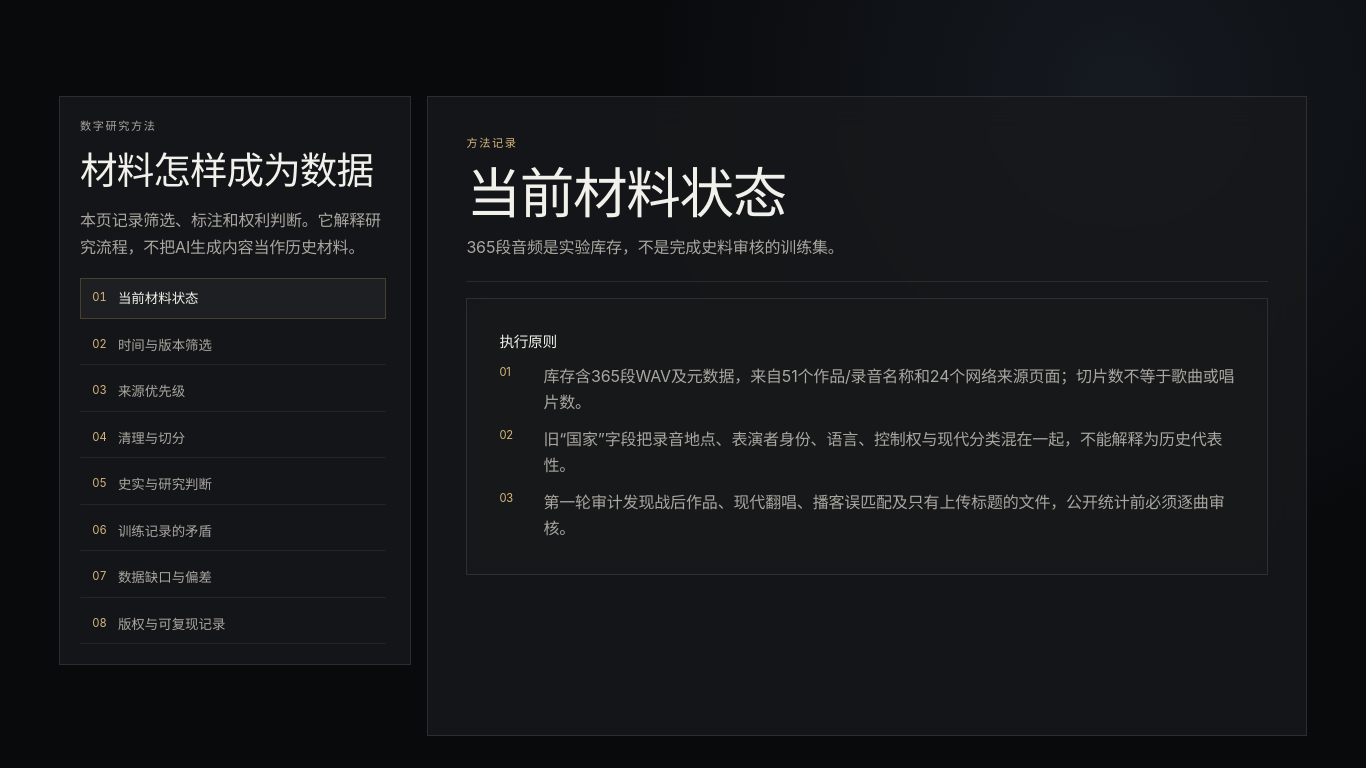
it: TrainingDataShowcase › presents one research-method chapter at a time
The image size is (1366, 768).
Expected: the element with test id "training-data-page" shows "数字研究方法", [80, 119, 156, 133]
Expected: the element with test id "training-data-page" shows "365段音频是实验库存", [466, 237, 844, 257]
What coordinates should you click on to do the following:
click the button "02 时间与版本筛选"
I would click on:
 (165, 345)
Its box is [80, 324, 386, 365].
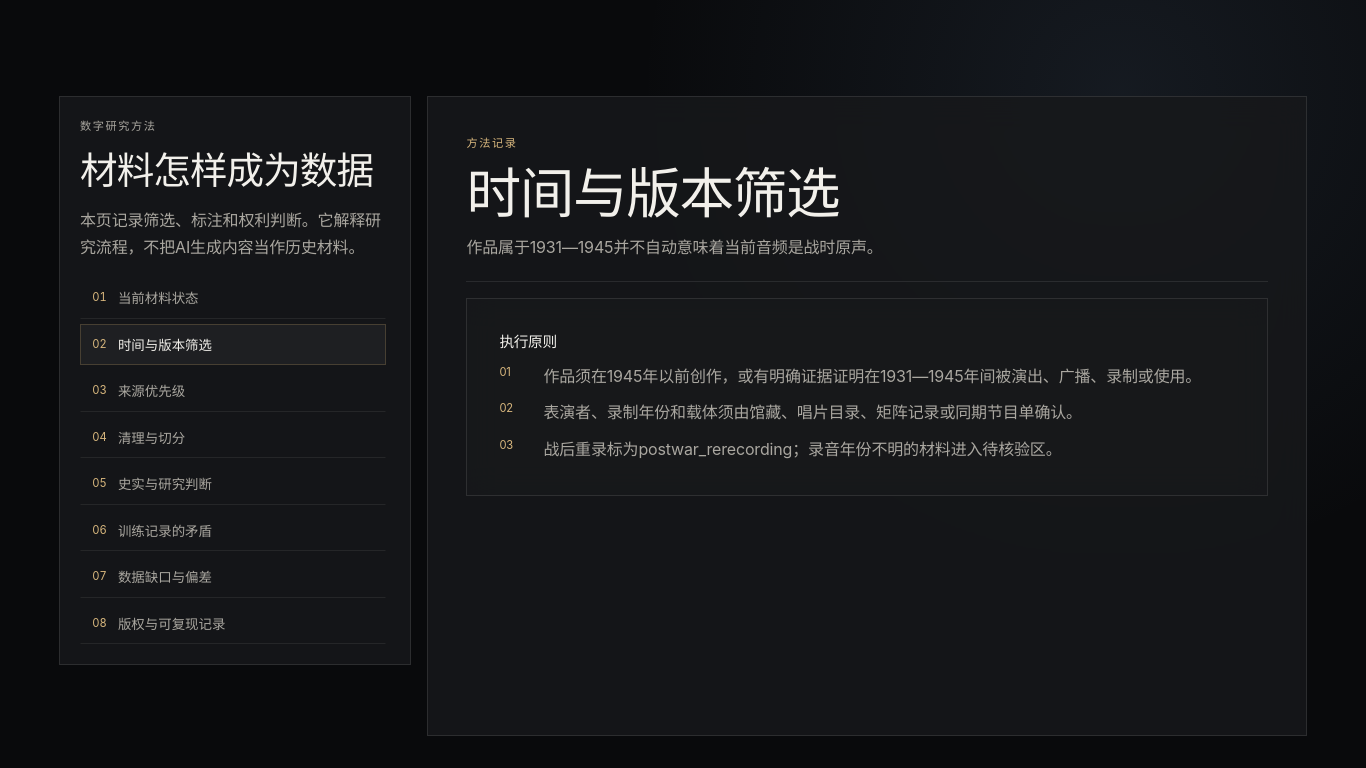
Now the element with test id "training-data-page" shows "当前音频是战时原声", box [466, 237, 883, 257]
